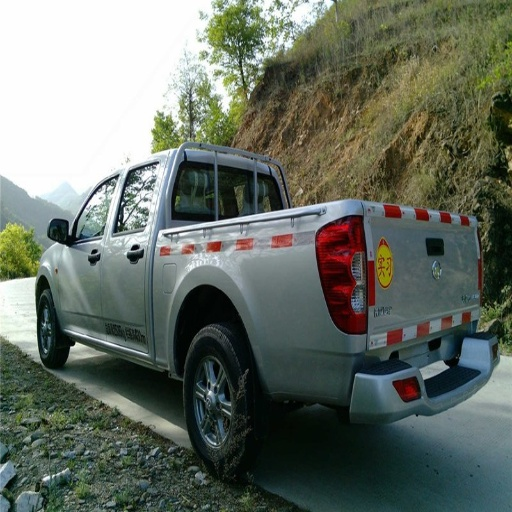back_left_door: (103, 173, 155, 322)
trunk: (134, 216, 335, 385), (364, 220, 479, 362)
